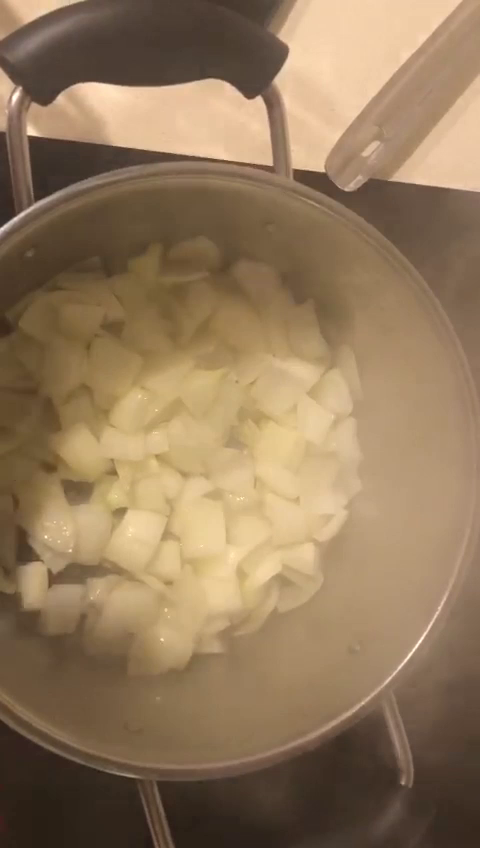Raw: (35, 284, 417, 580)
